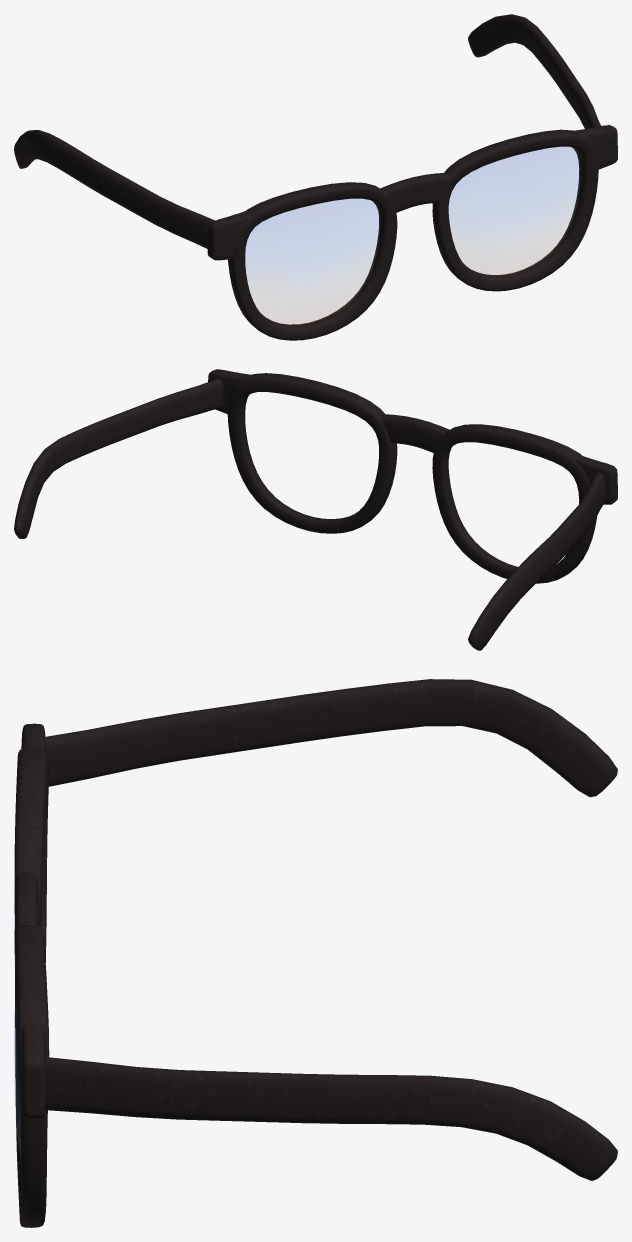
File: glass1.glb
The picture shows the model from 3 angles, top to bottom: view 1: azimuth 30°, elevation 25°; view 2: azimuth 150°, elevation 25°; view 3: azimuth 270°, elevation 25°; orthographic projection. The views are drawn at different scales.
Parts seen in each view (by area): view 1: frame.001, glass.001; view 2: frame.001; view 3: frame.001.
Part boxes in pixels (box(x1,y1,x2,y2)): frame.001: box(14, 14, 617, 340); glass.001: box(246, 147, 580, 324); frame.001: box(14, 369, 617, 650); frame.001: box(14, 679, 617, 1227).
Size of the model in its own units: 1.52 by 0.4406 by 0.9524.
2 materials, 2 textured.
